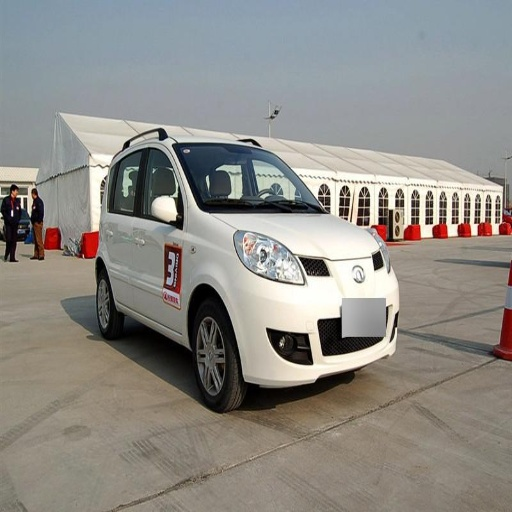front_bumper: (225, 251, 399, 385)
front_right_door: (136, 143, 182, 329)
front_right_light: (235, 233, 305, 283)
